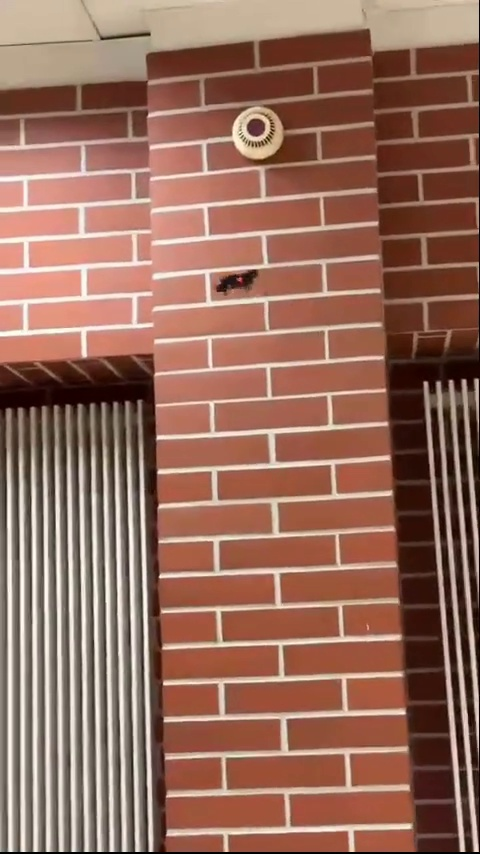drone: (217, 272, 257, 299)
